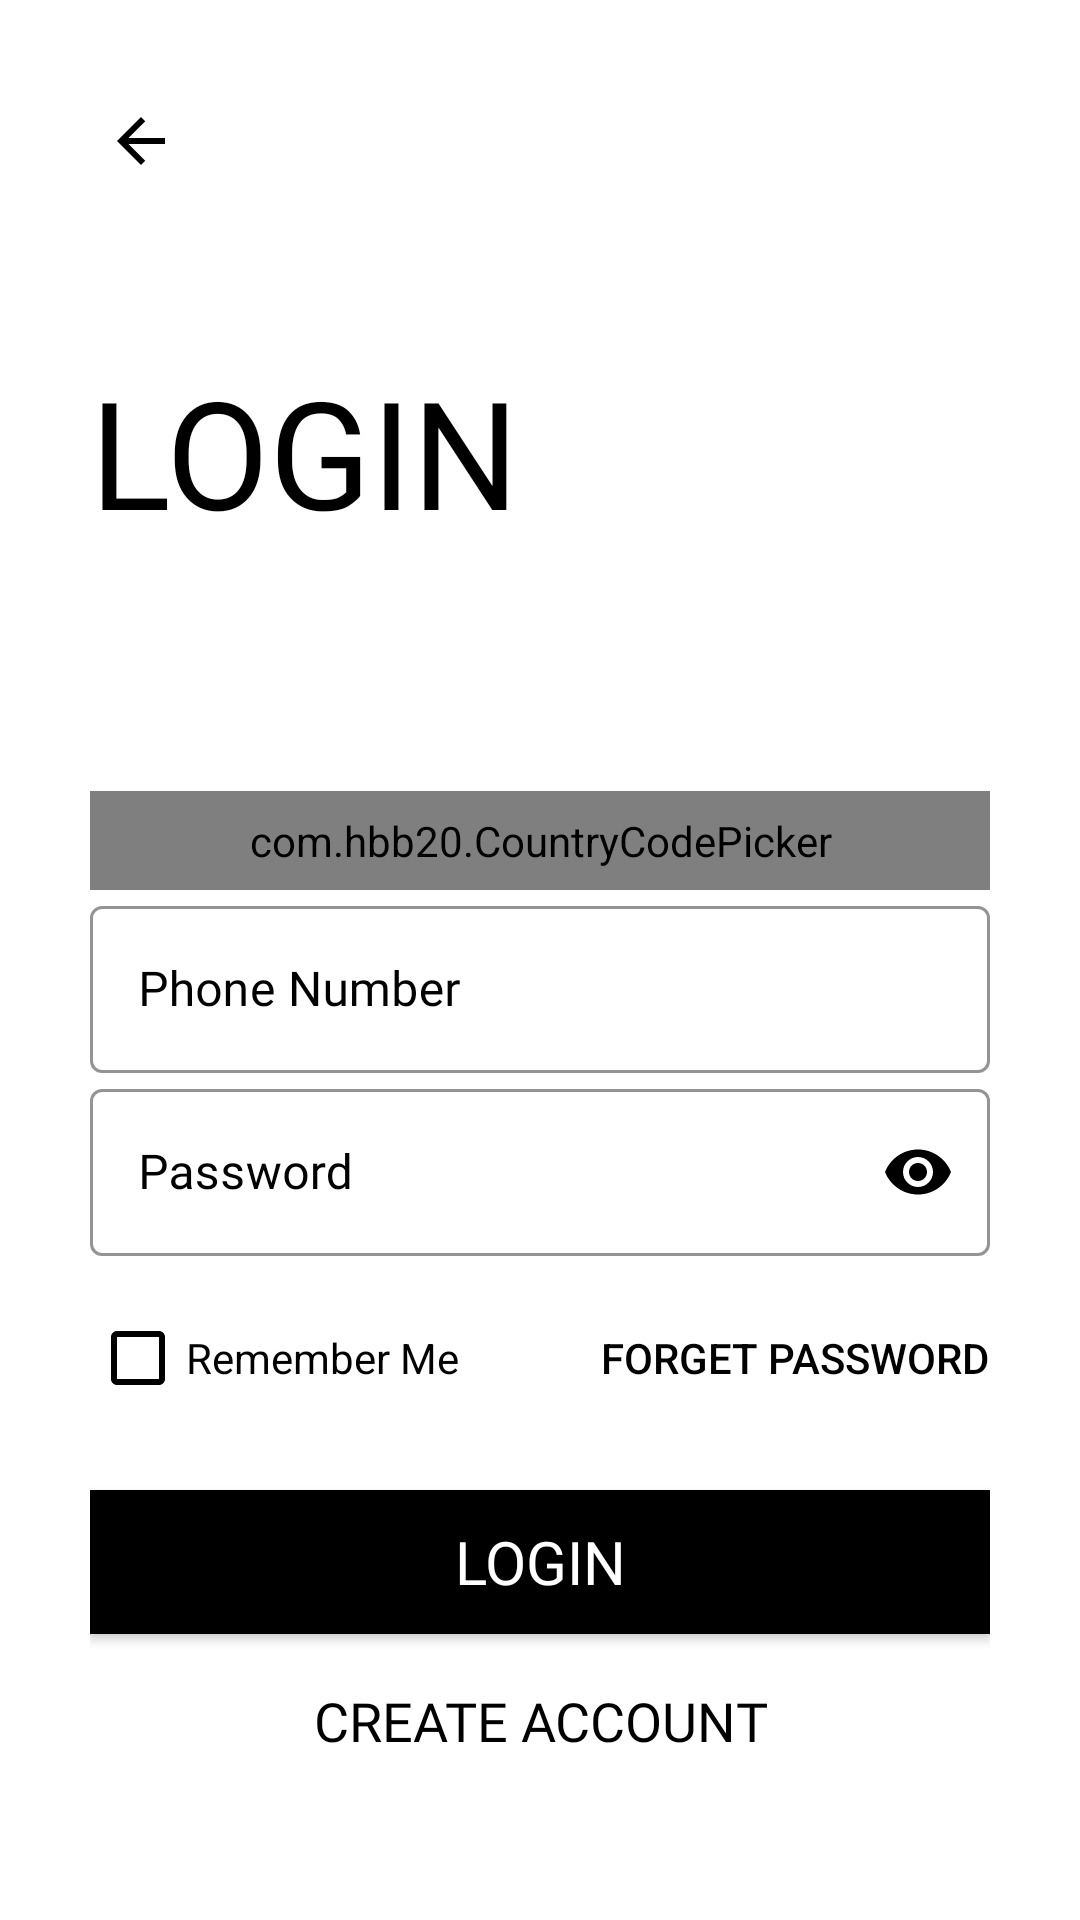

Named icons in this screenshot (1080 x 1920) and their centers, [x,y]:
arrow back: [141,141]
